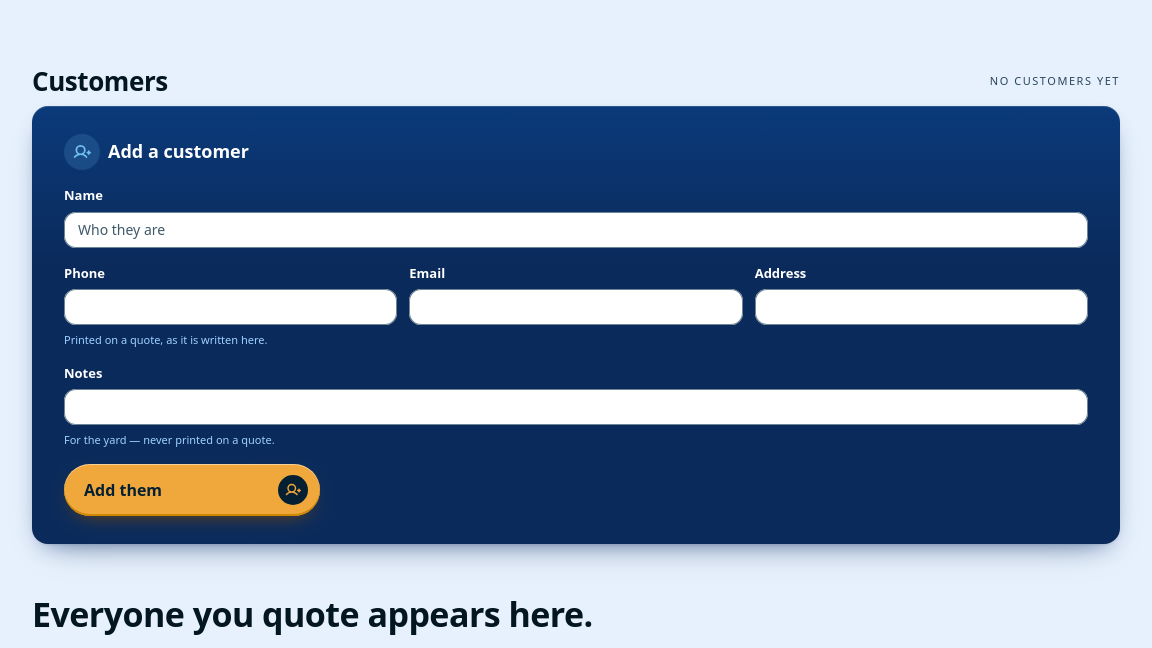
Test: adding somebody by hand makes the book, in one step, with one undo › takes the book away again with the person, on one press
The width and height of the screenshot is (1152, 648).
In the field labelled "Name": (576,230) left=64, top=212, right=1088, bottom=248, type "Sarah Jones"
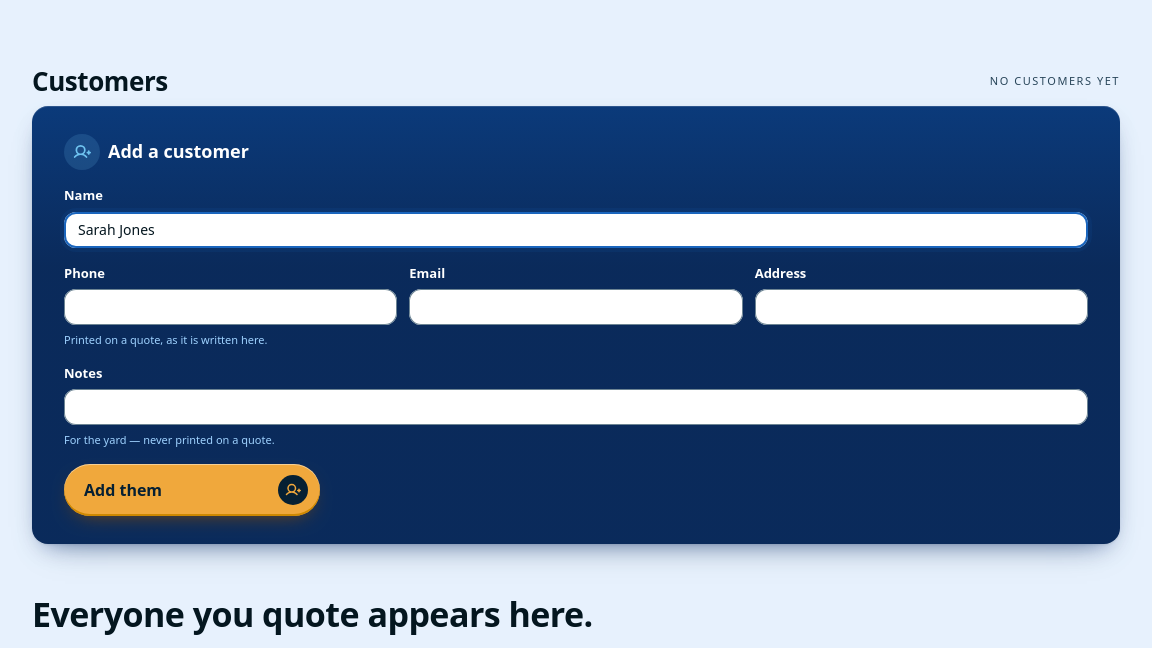
Click the button "Add them": (192,490) left=64, top=464, right=320, bottom=516
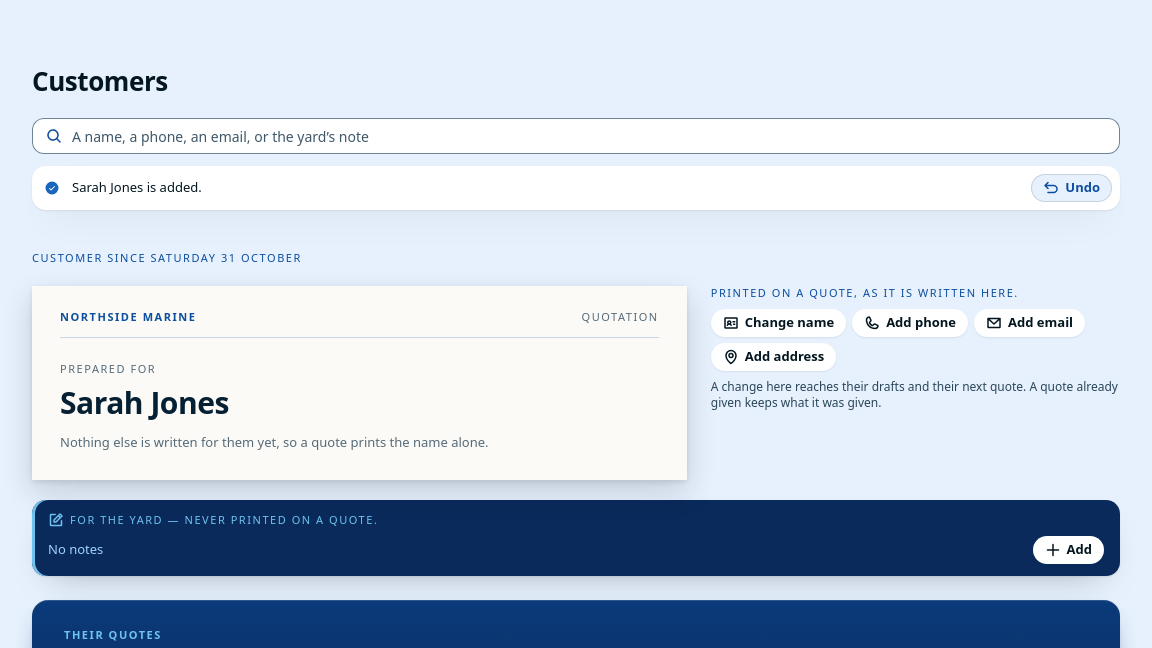
Click the button "Undo": (1072,188) left=1031, top=174, right=1112, bottom=202
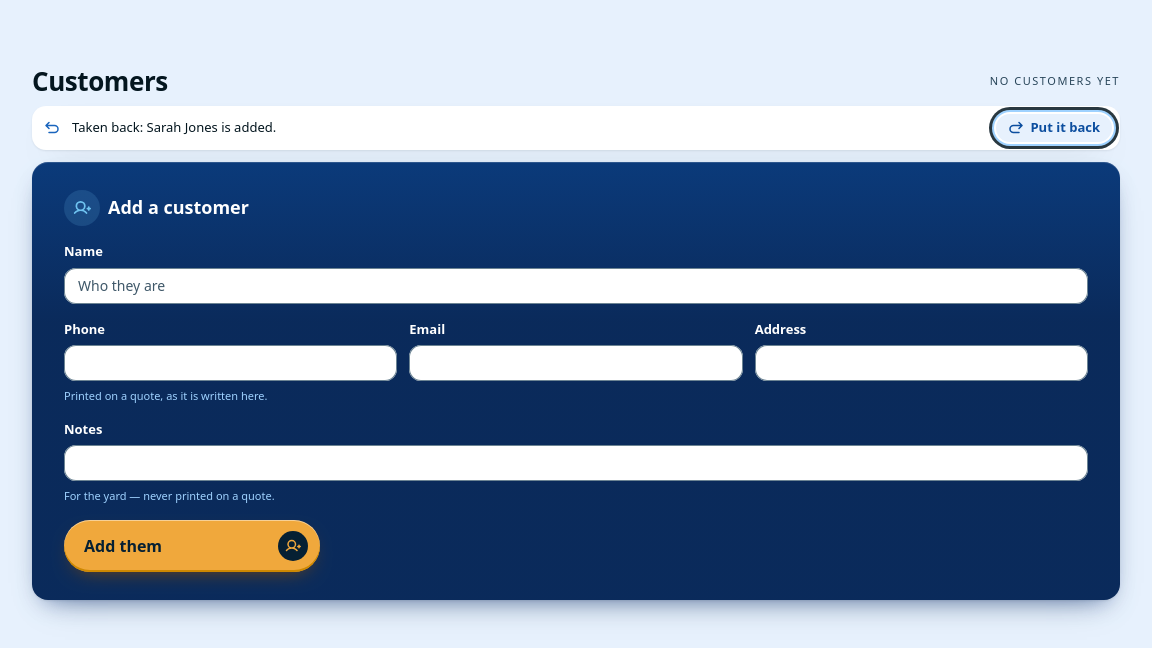
Expected: the button "Put it back" is shown, left=996, top=114, right=1112, bottom=142
